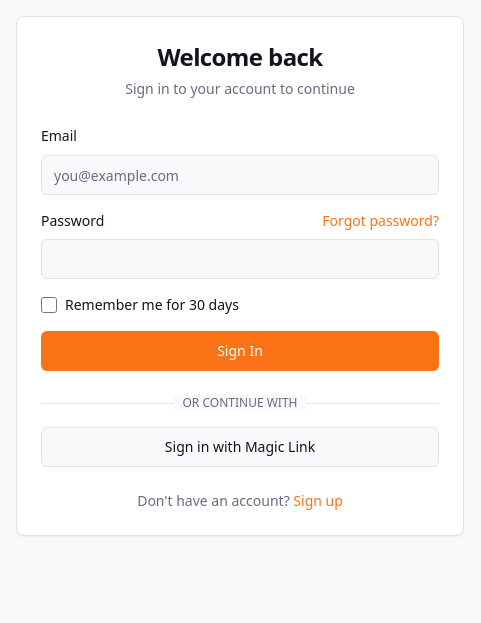
LoginPage › shows store error when login fails
In the field labelled "Email": (240, 175) [41,155,439,195], type "test@example.com"
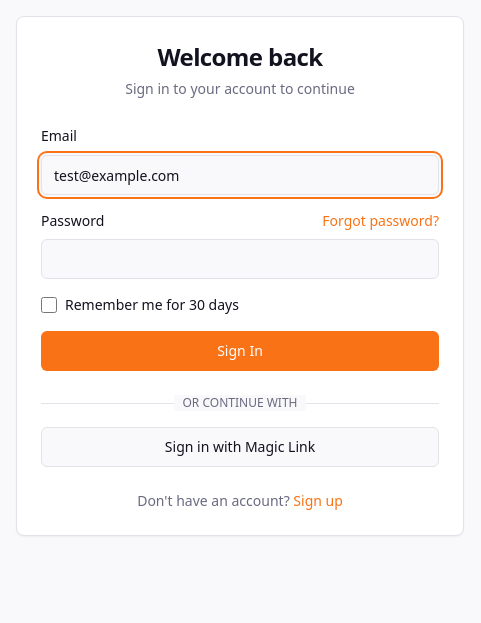
In the password field labelled "Password": (240, 259) [41,239,439,279], type "wrongpassword"
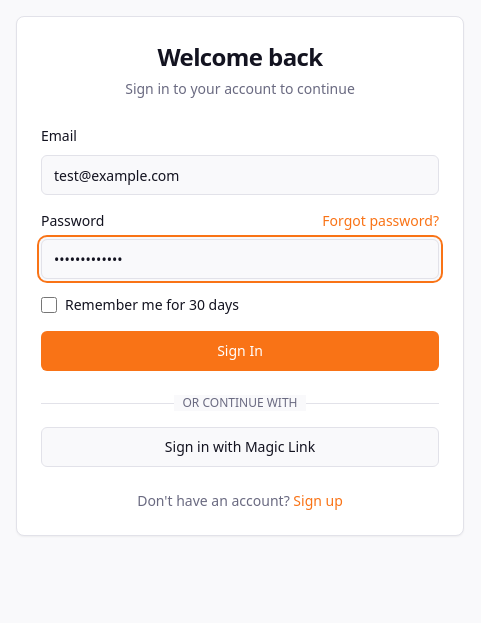
Click the button "Sign In": (240, 351) [41,331,439,371]
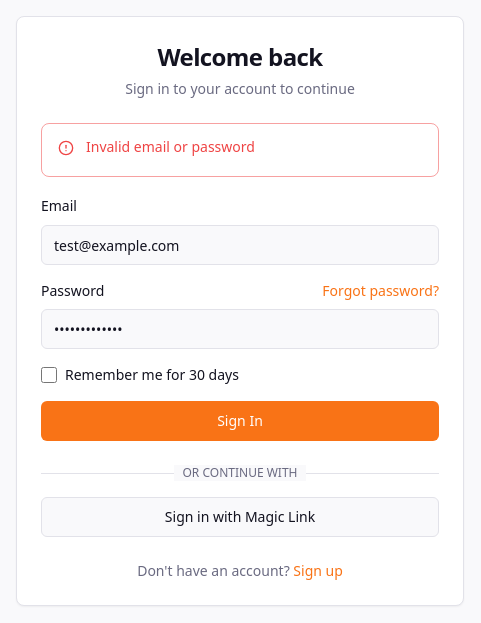
Expected: the text "Invalid email or password" is shown, [86,137,255,156]
